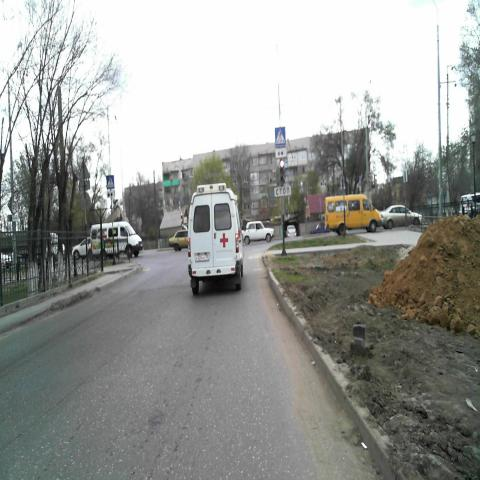8_15: (275, 148, 287, 158)
